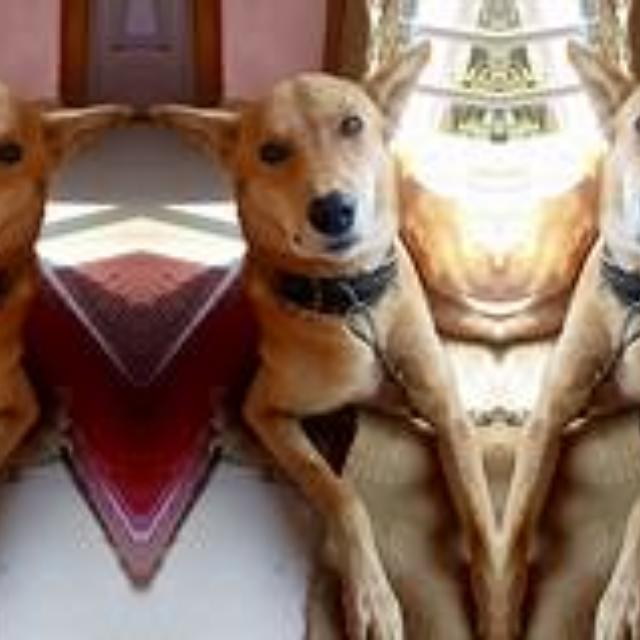dog: (198, 31, 486, 476), (514, 30, 640, 475), (0, 30, 86, 475)
